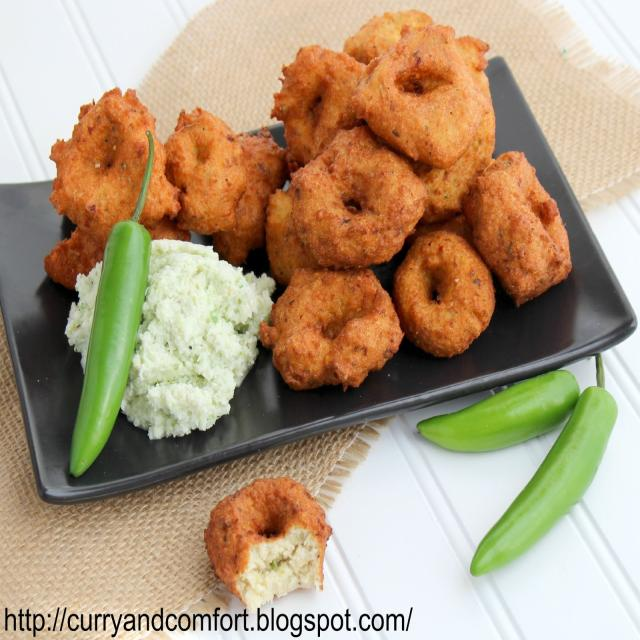medu vadai: (265, 10, 585, 395)
